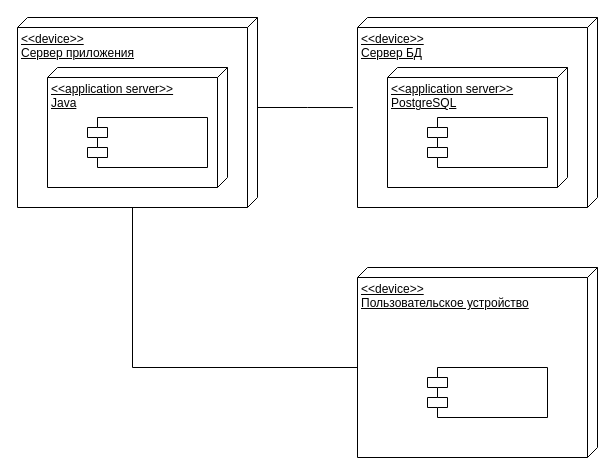
Image size: 615x475. Some labels were removed from this diagram. Each missing label, with the centre of its shape:
<<executable>> Веб-сервер: the point at 147,142
Мои ИПУ app: the point at 487,392
Мои ИПУ DB: the point at 487,142
